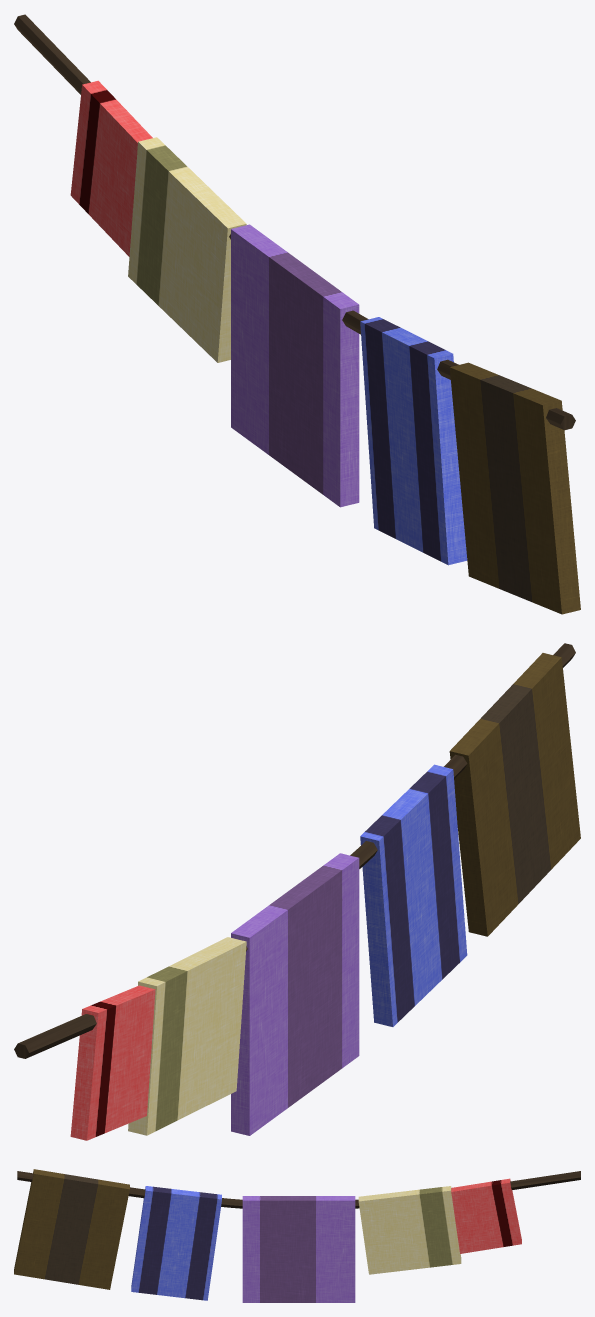
File: ClothesLine.fbx
3 views of the same model, one above another, from view 1: azimuth 30°, elevation 25°; view 2: azimuth 150°, elevation 25°; view 3: azimuth 270°, elevation 25° (orthographic). The views are drawn at different scales.
Visible parts, largest first — view 1: pCylinder3; view 2: pCylinder3; view 3: pCylinder3.
Boxes of the visible parts, x1,y1,x2,y2 form: pCylinder3: (14,14,580,614); pCylinder3: (14,643,580,1140); pCylinder3: (14,1169,580,1302).
Size of the model in its own units: 0.1 by 1.26 by 5.03.
